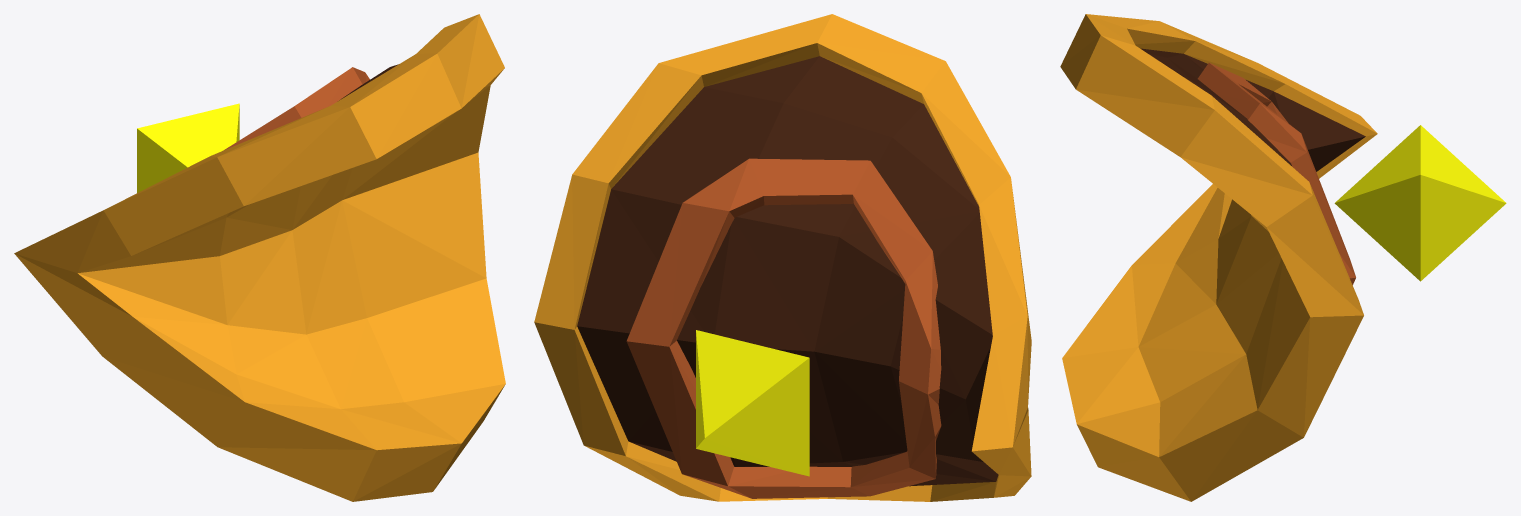
The model's file is Pauldron 14.FBX.
3 renders of one model, left to right at view 1: azimuth 30°, elevation 25°; view 2: azimuth 150°, elevation 25°; view 3: azimuth 270°, elevation 25°, orthographic. The views are drawn at different scales.
Visible parts, largest first — view 1: Pauldron 14, Pauldron 14 Gem; view 2: Pauldron 14, Pauldron 14 Gem; view 3: Pauldron 14, Pauldron 14 Gem.
Part boxes in pixels (x1,y1,x2,y2): Pauldron 14: (14,14,505,501); Pauldron 14 Gem: (137,103,239,192); Pauldron 14: (534,14,1031,501); Pauldron 14 Gem: (696,330,809,476); Pauldron 14: (1060,14,1377,501); Pauldron 14 Gem: (1334,125,1506,281).
Size of the model in its own units: 39.04 by 37.05 by 34.47.
1 material, 1 textured.
